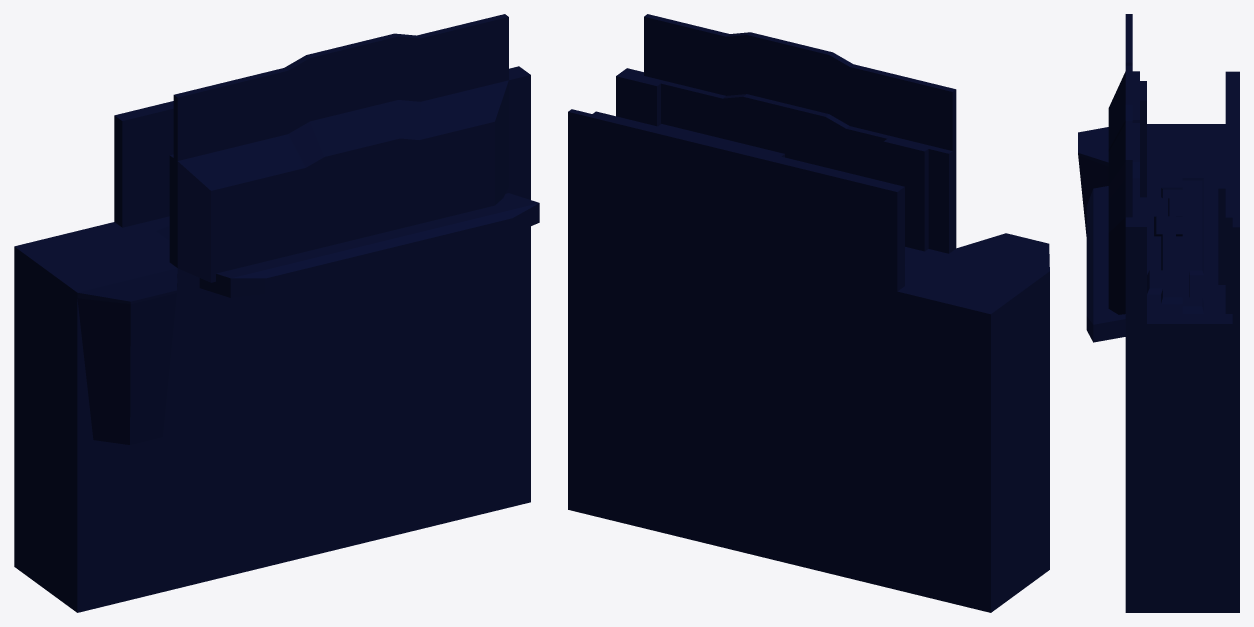
The model's file is sp2ball 6.fbx.
3 views of the same model, side by side, from view 1: azimuth 30°, elevation 25°; view 2: azimuth 150°, elevation 25°; view 3: azimuth 270°, elevation 25° (orthographic). The views are drawn at different scales.
Visible parts, largest first — view 1: WallSpare4.005; view 2: WallSpare4.005; view 3: WallSpare4.005.
Part boxes in pixels (bbox=[...]): WallSpare4.005: bbox=[14, 14, 539, 612]; WallSpare4.005: bbox=[568, 14, 1049, 612]; WallSpare4.005: bbox=[1078, 14, 1239, 612].
Bounding box in the file's own units: 10012 × 10509 × 3422.
